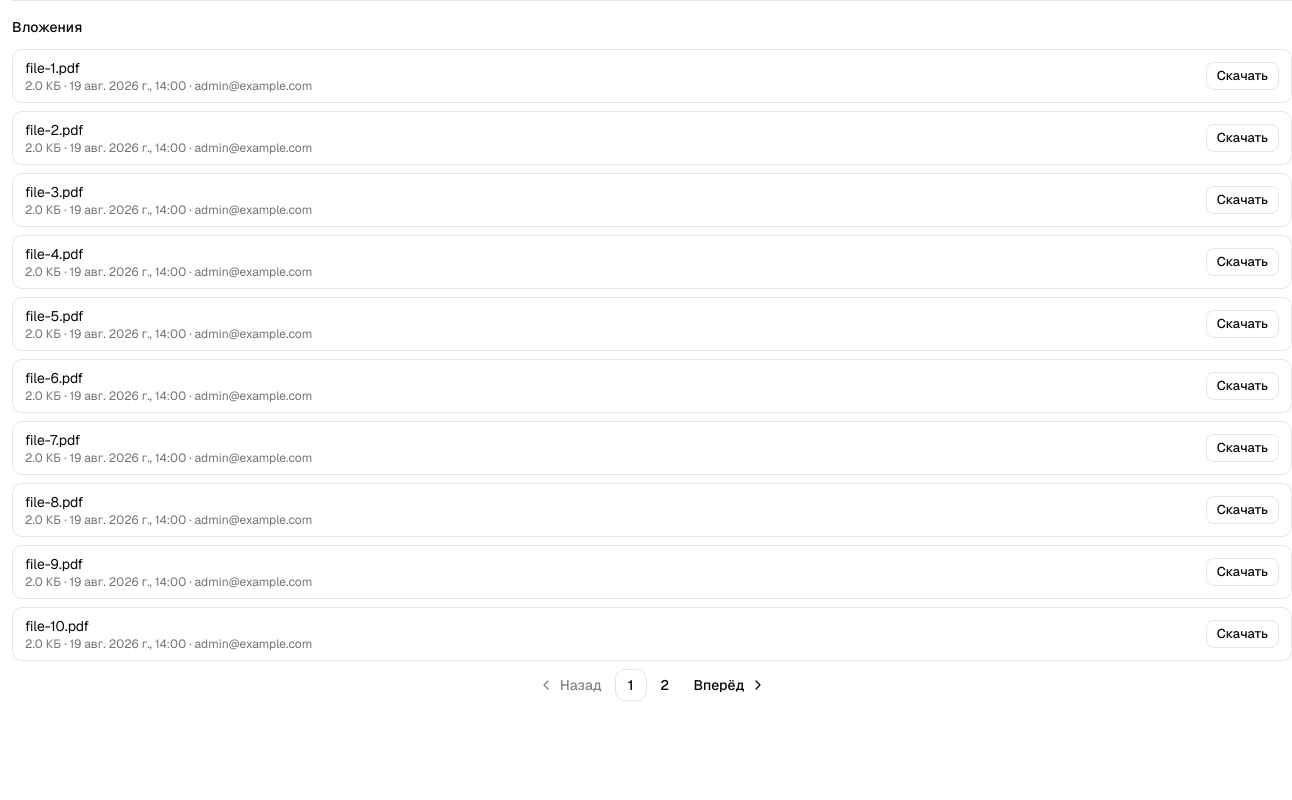
TaskAttachments (list) › paginates when there are more attachments than one page
Check: the text "file-11.pdf" is not shown
What coordinates should you click on to do the following:
click the button with aria-label "Следующая страница"
I would click on:
 (728, 685)
Its box is top-left (683, 669), bottom-right (773, 701).
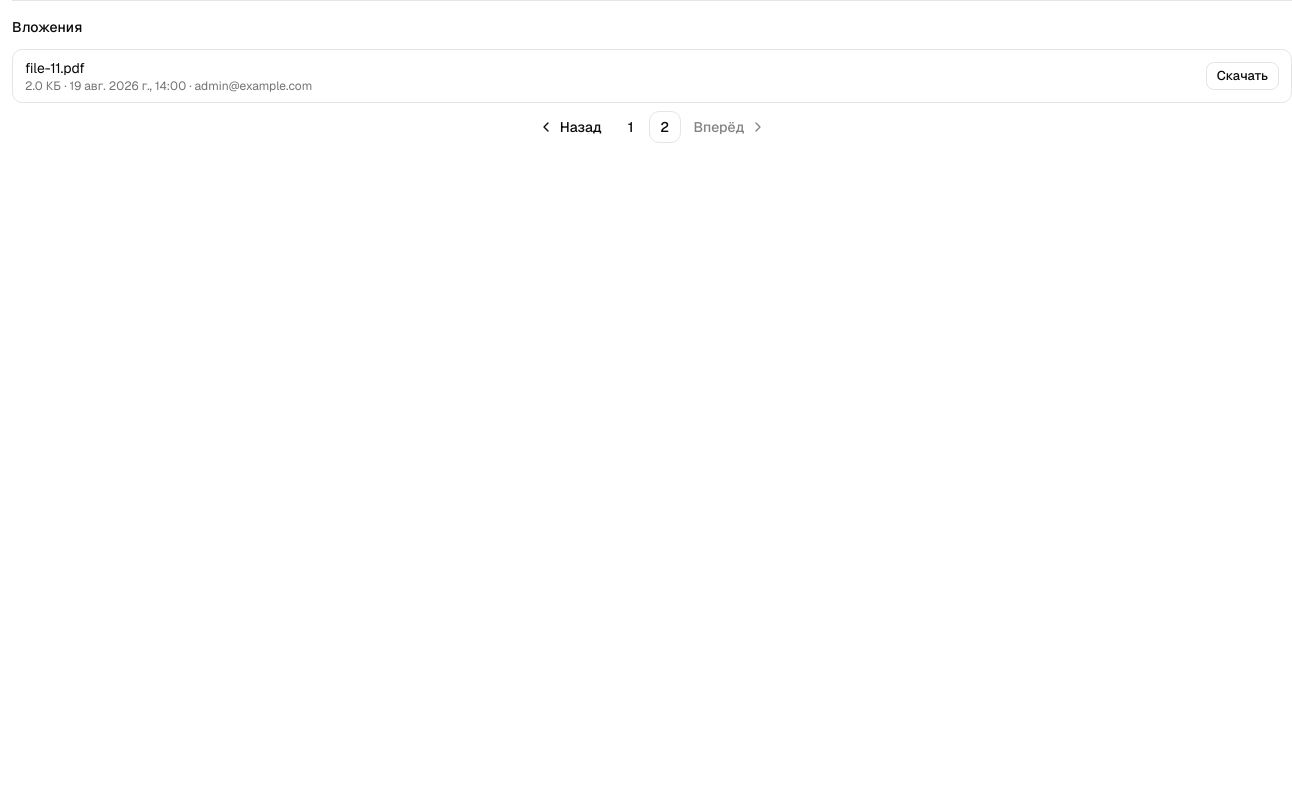
Check: the text "file-11.pdf" is shown, box top-left (25, 59), bottom-right (85, 77)
Check: the number of list items with test id "task-attachment" is 1, box top-left (12, 49), bottom-right (1291, 103)
